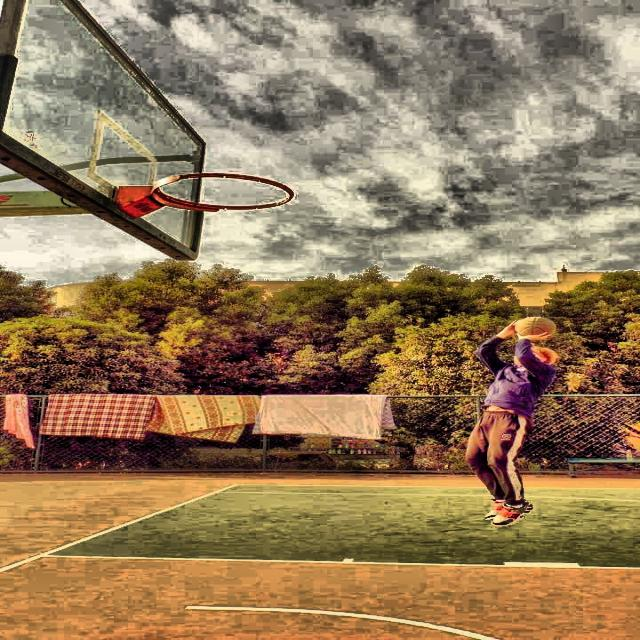board: (513, 316, 555, 338)
rim: (150, 172, 294, 211)
